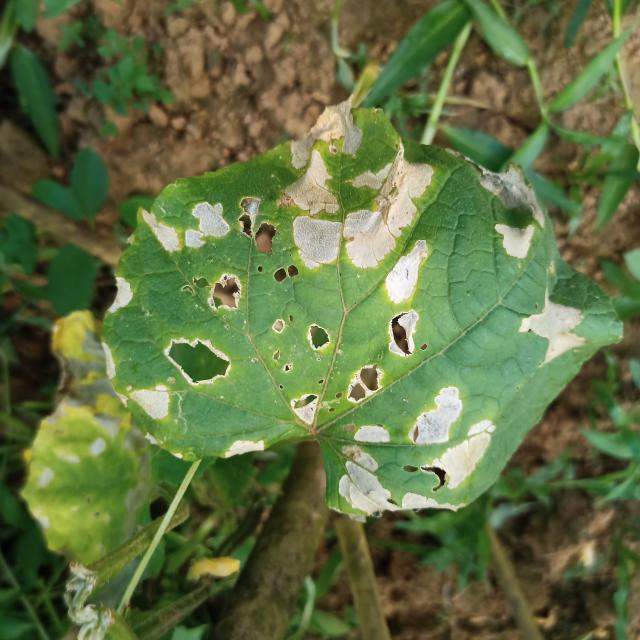disease_cucumber: (99, 117, 577, 525)
